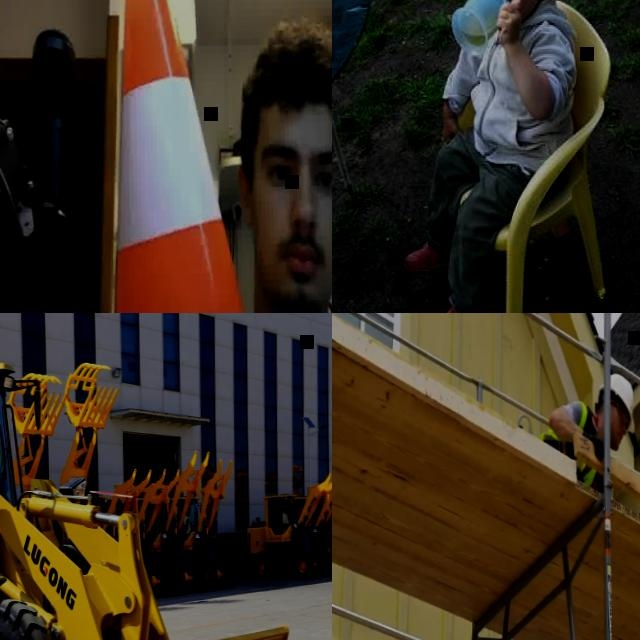Hardhat: (597, 372, 636, 433)
NO-Hardhat: (248, 10, 332, 134)
NO-Mask: (263, 229, 332, 313), (497, 0, 542, 13), (611, 417, 622, 451)
NO-Safety Vest: (467, 15, 569, 164)
Person: (62, 15, 332, 313), (393, 0, 584, 313), (538, 372, 635, 488)
Safety Cone: (49, 0, 306, 313)
Safety Vest: (539, 399, 597, 486)
machinery: (0, 339, 332, 640), (136, 448, 212, 592), (104, 467, 178, 595), (166, 458, 236, 591), (245, 473, 332, 579), (290, 475, 332, 572), (96, 468, 153, 539), (317, 469, 332, 569)
